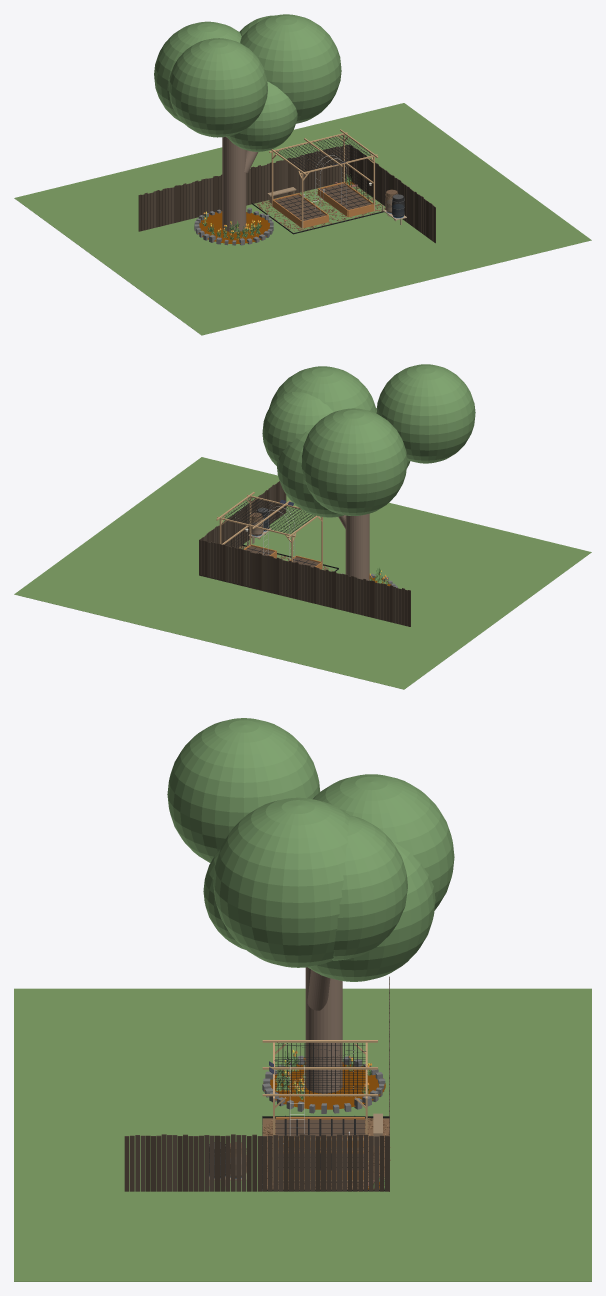
File: Sprig3Dv2.glb
3 renders of one model, top to bottom at view 1: azimuth 30°, elevation 25°; view 2: azimuth 150°, elevation 25°; view 3: azimuth 270°, elevation 25°, orthographic. The views are drawn at different scales.
Parts seen in each view (by area): view 1: Grass_WholeYard, Tree_Canopy_4, Tree_Canopy_0, Tree_Canopy_1, Tree_Canopy_5, Tree_Trunk, WireMeshGrid, TreeGround, BedRight_Soil, BedLeft_Soil; view 2: Grass_WholeYard, Tree_Canopy_5, Tree_Canopy_4, Tree_Canopy_0, Tree_Canopy_3, Tree_Canopy_2, Tree_Trunk, WireMeshGrid; view 3: Grass_WholeYard, Tree_Canopy_0, Tree_Canopy_4, Tree_Canopy_3, Tree_Canopy_5, Tree_Canopy_2, Tree_Trunk, WireMeshGrid, TreeGround, BedLeft_Soil, Tree_Canopy_1, Ground_15x11ft (+1 smaller).
Part boxes in pixels (x1,y1,x2,y2): Grass_WholeYard: [14, 103, 591, 335]; Tree_Canopy_4: [168, 38, 267, 137]; Tree_Canopy_0: [240, 14, 341, 123]; Tree_Canopy_1: [226, 81, 297, 151]; Tree_Canopy_5: [154, 21, 241, 123]; Tree_Trunk: [222, 137, 246, 232]; WireMeshGrid: [276, 135, 372, 171]; TreeGround: [198, 211, 269, 243]; BedRight_Soil: [320, 184, 371, 210]; BedLeft_Soil: [275, 195, 325, 220]; Grass_WholeYard: [14, 457, 591, 689]; Tree_Canopy_5: [301, 408, 407, 515]; Tree_Canopy_4: [376, 364, 475, 463]; Tree_Canopy_0: [269, 366, 376, 412]; Tree_Canopy_3: [262, 392, 333, 465]; Tree_Canopy_2: [277, 428, 343, 517]; Tree_Trunk: [345, 513, 369, 580]; WireMeshGrid: [223, 497, 315, 533]; Grass_WholeYard: [14, 988, 591, 1281]; Tree_Canopy_0: [213, 797, 349, 967]; Tree_Canopy_4: [167, 718, 320, 862]; Tree_Canopy_3: [332, 815, 407, 960]; Tree_Canopy_5: [313, 774, 454, 910]; Tree_Canopy_2: [308, 841, 435, 981]; Tree_Trunk: [305, 967, 342, 1093]; WireMeshGrid: [275, 1043, 365, 1096]; TreeGround: [263, 1062, 385, 1109]; BedLeft_Soil: [275, 1119, 364, 1136]; Tree_Canopy_1: [203, 850, 245, 949]; Ground_15x11ft: [262, 1118, 389, 1189].
Bounding box in the file's own units: 60 × 32.47 × 50.
